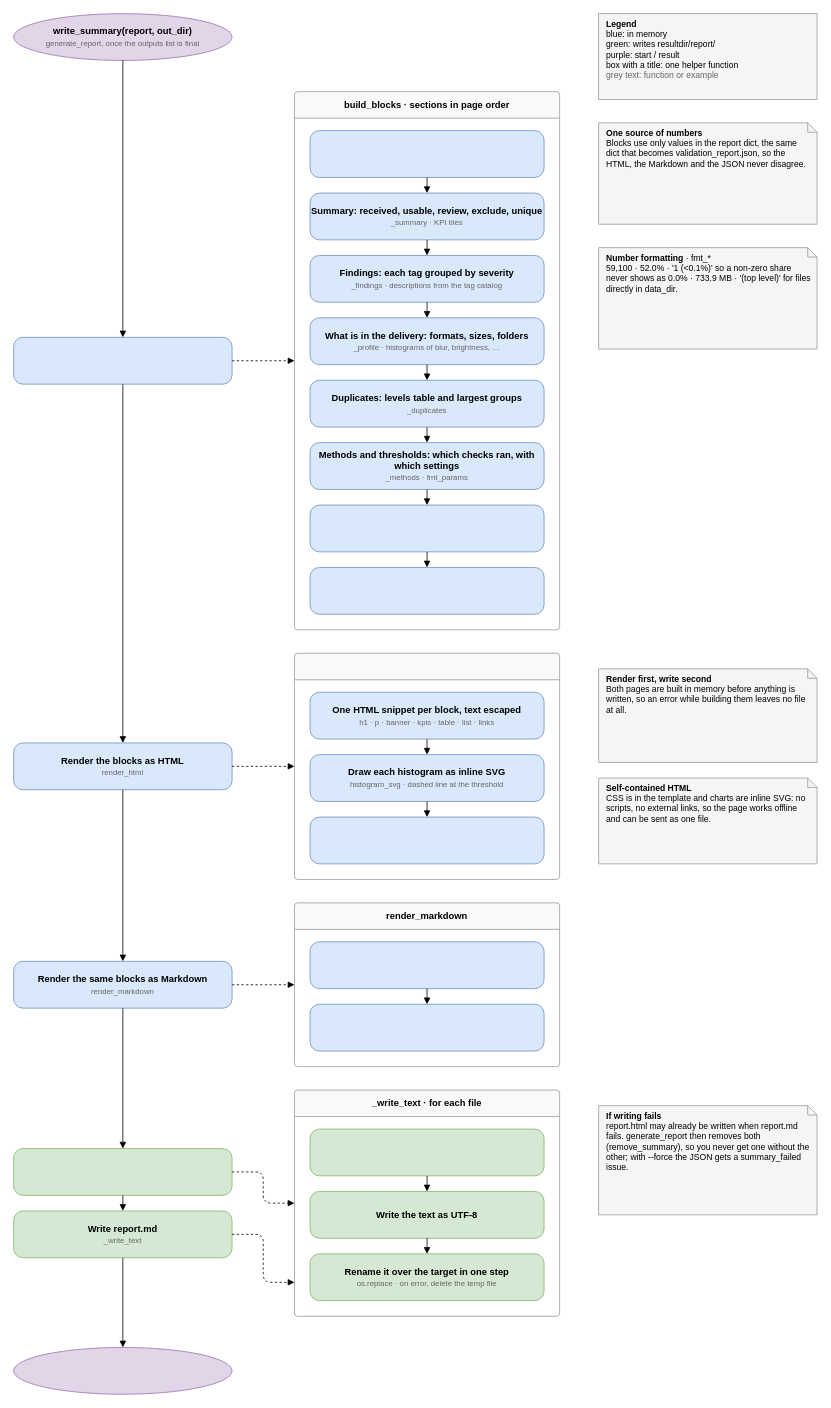
Some shapes in this 831 by 1408 pixel diagram are drawn without their labels. Here are the shapes that lost their labels. From the top down, the box of each, then its label:
(309, 130, 544, 177): Title, date and dataset fingerprint _header · + a red banner if valid is false
(13, 337, 232, 384): Turn the report into a list of blocks build_blocks
(309, 504, 544, 552): Caveats: limits, uncommitted code, warnings _caveats
(309, 567, 544, 614): Files: links to the other outputs _files · from report['outputs']
(294, 652, 560, 879): render_html
(309, 816, 544, 864): Fill the page template string.Template · templates/report.html, CSS inside
(309, 941, 544, 989): Tables with numbers right-aligned | --- | ---: |, pipes escaped
(309, 1003, 544, 1051): Charts become a pointer to the HTML 'Histograms are in the HTML version'
(13, 1148, 232, 1195): Write report.html _write_text
(309, 1128, 544, 1176): Create a temporary file next to the target tempfile.mkstemp · .summary-…
(13, 1347, 232, 1394): Return ['report.html', 'report.md']
